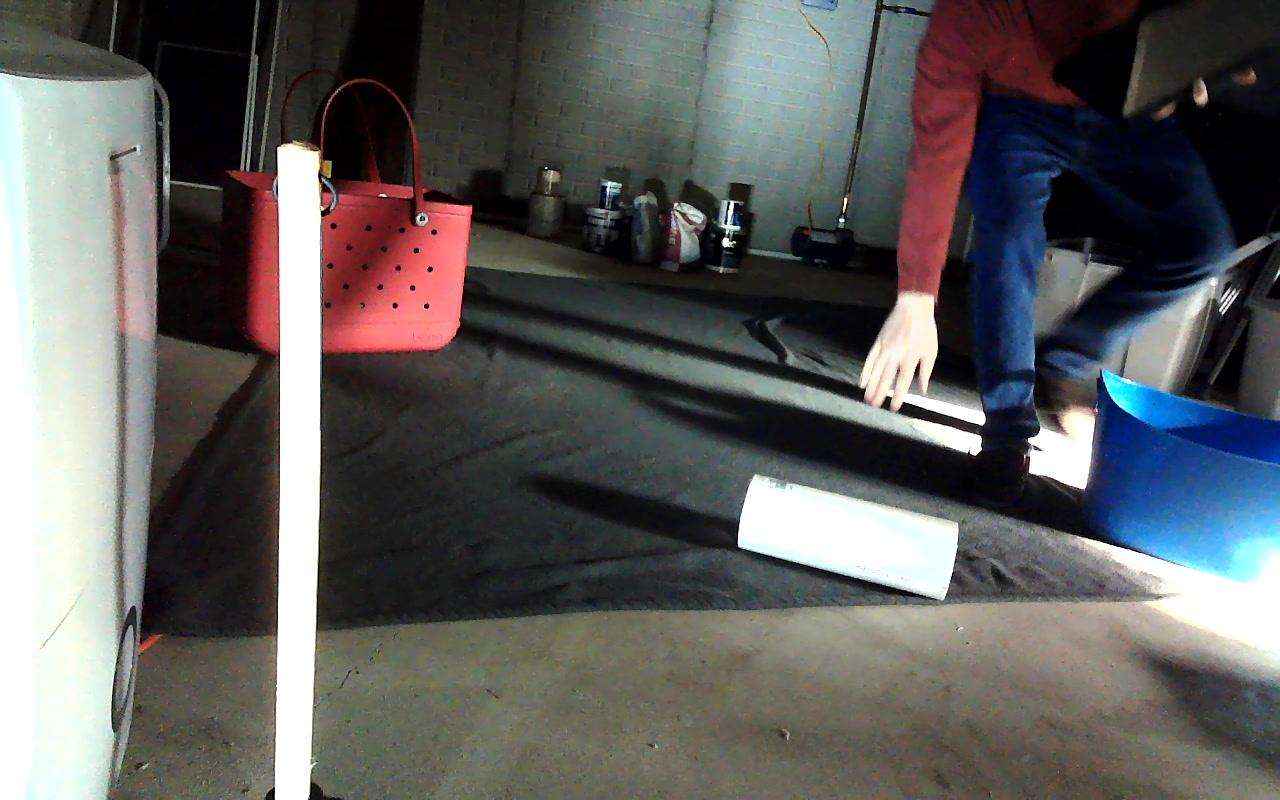coral: (738, 476, 959, 599)
